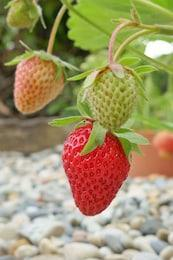Fresa: (58, 112, 136, 219)
